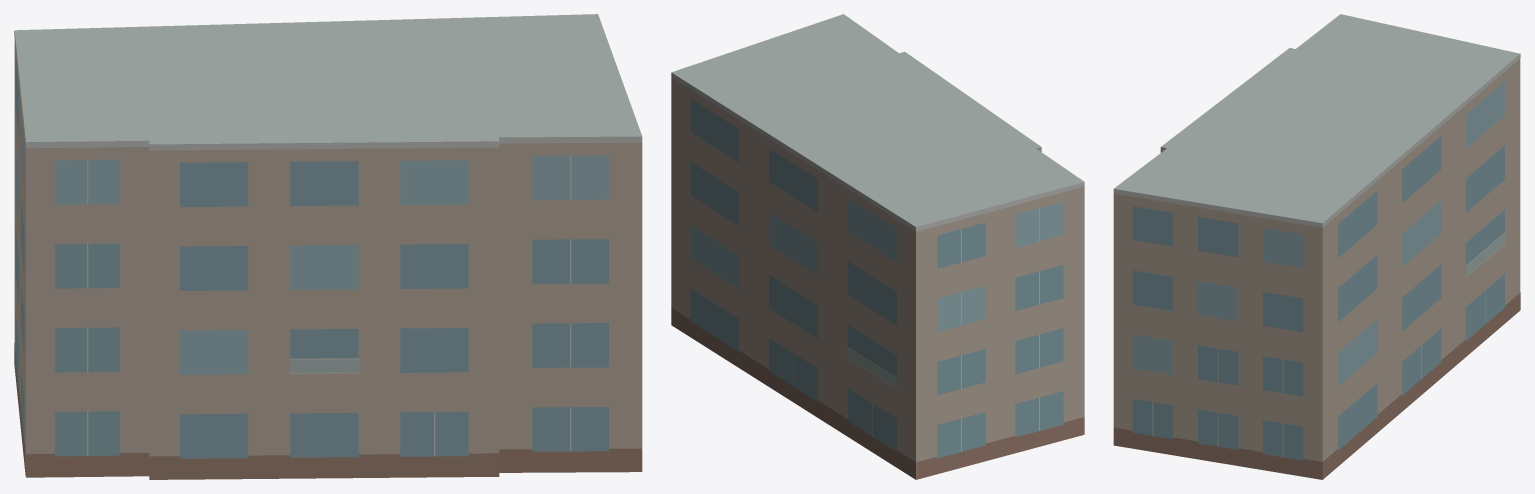
The model's file is survey-upis-32943473.glb.
3 renders of one model, left to right at view 1: azimuth 30°, elevation 25°; view 2: azimuth 150°, elevation 25°; view 3: azimuth 270°, elevation 25°, orthographic. The views are drawn at different scales.
Visible parts, largest first — view 1: survey-upis-32943473.tmp; view 2: survey-upis-32943473.tmp; view 3: survey-upis-32943473.tmp.
Part boxes in pixels (left/top/right/bottom): survey-upis-32943473.tmp: left=14, top=14, right=642, bottom=479; survey-upis-32943473.tmp: left=671, top=14, right=1084, bottom=479; survey-upis-32943473.tmp: left=1113, top=14, right=1520, bottom=479.
Bounding box in the file's own units: 23.27 × 13.3 × 19.12.
